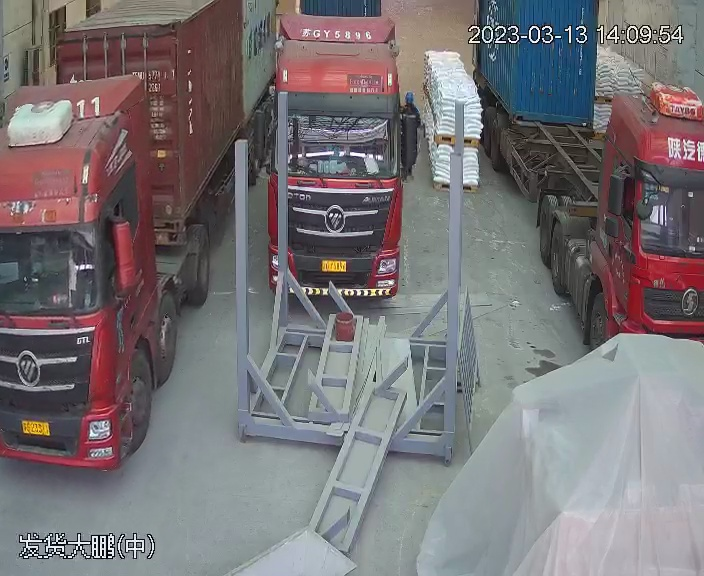head: (401, 91, 420, 120)
helmet: (405, 91, 413, 102)
people: (399, 90, 419, 184)
truck: (1, 3, 281, 483), (469, 1, 704, 364), (268, 3, 419, 308)
